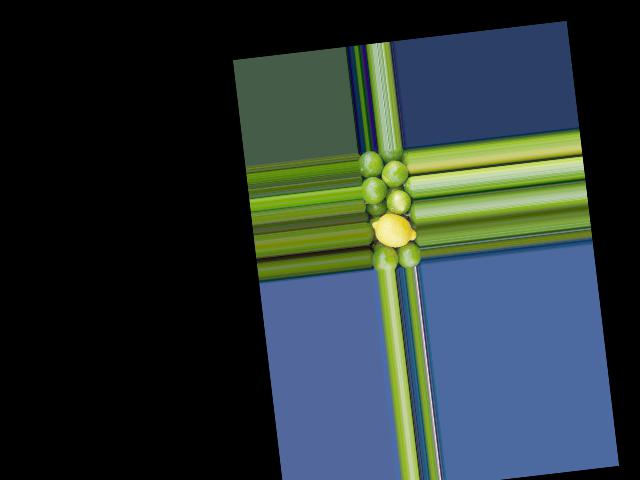lemon: (370, 209, 417, 250)
